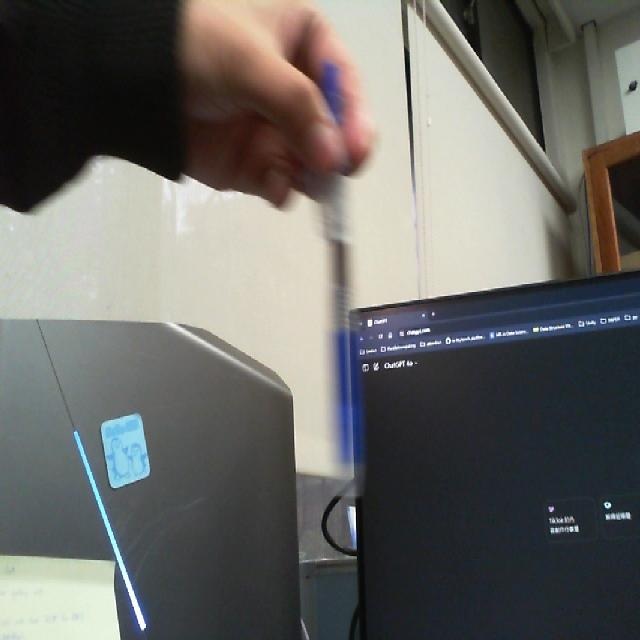Pen: (305, 57, 373, 508)
